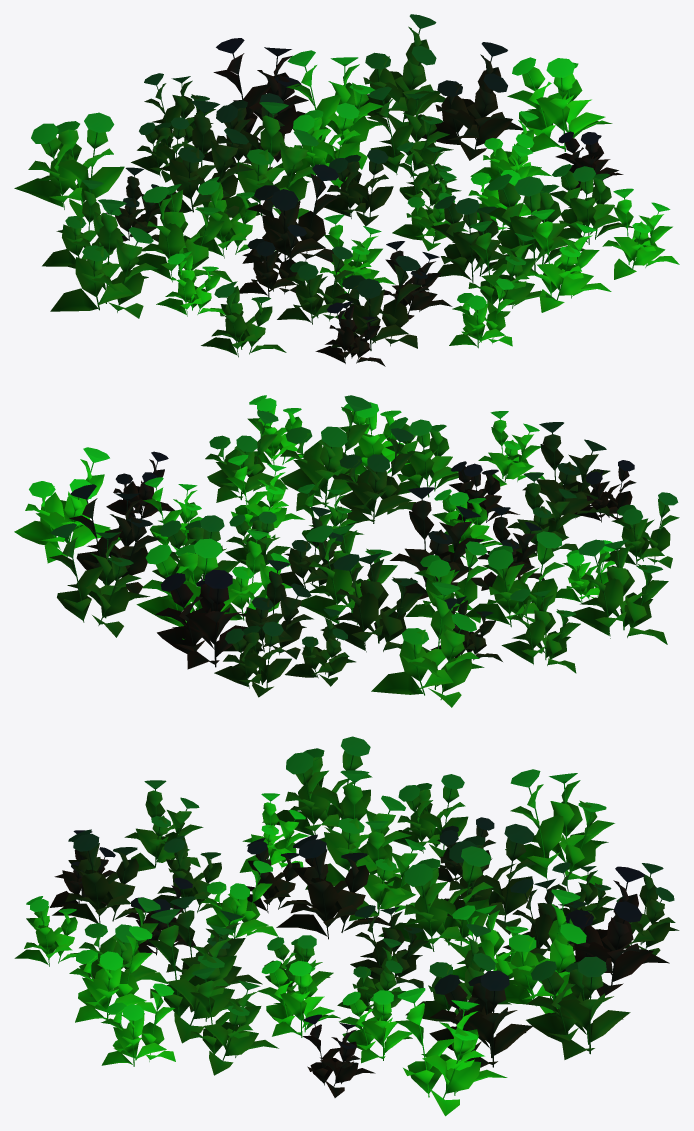
The picture shows the model from 3 angles, top to bottom: view 1: azimuth 30°, elevation 25°; view 2: azimuth 150°, elevation 25°; view 3: azimuth 270°, elevation 25°; orthographic projection. The views are drawn at different scales.
Visible parts, largest first — view 1: daisy leaf_2, flower daisy_1, plant05_0; view 2: daisy leaf_2, flower daisy_1, plant05_0; view 3: daisy leaf_2, flower daisy_1, plant05_0.
Part boxes in pixels (box(x1,y1,x2,y2)): daisy leaf_2: box(14, 26, 679, 366); flower daisy_1: box(31, 14, 670, 321); plant05_0: box(48, 27, 660, 363); daisy leaf_2: box(14, 406, 679, 707); flower daisy_1: box(29, 395, 678, 646); plant05_0: box(42, 410, 665, 699); daisy leaf_2: box(14, 750, 679, 1116); flower daisy_1: box(26, 736, 674, 1048); plant05_0: box(39, 755, 662, 1098).
Bounding box in the file's own units: 629 × 101 × 561.
